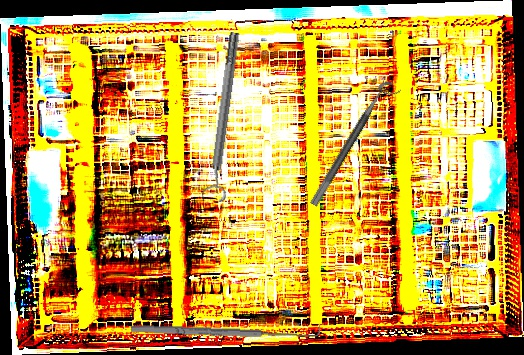Fixation Ring: (309, 77, 402, 214), (199, 31, 249, 203)
Hook Surgical: (130, 316, 321, 342)
